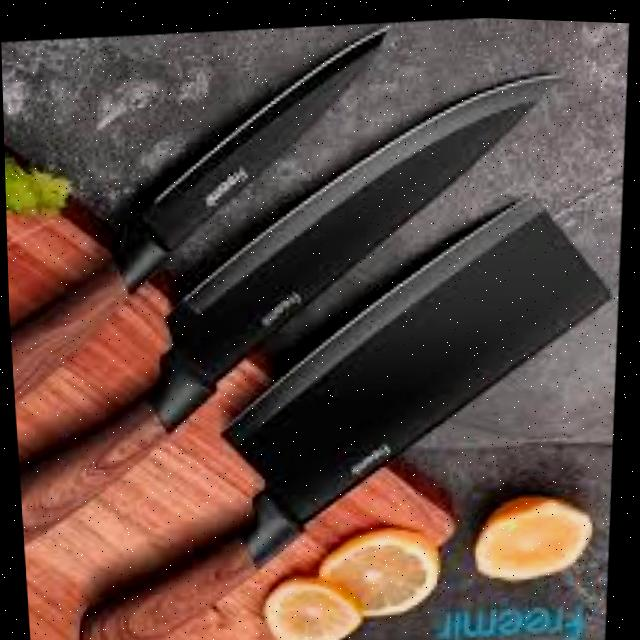knife: (1, 47, 594, 564), (43, 168, 632, 640), (0, 8, 412, 426)
